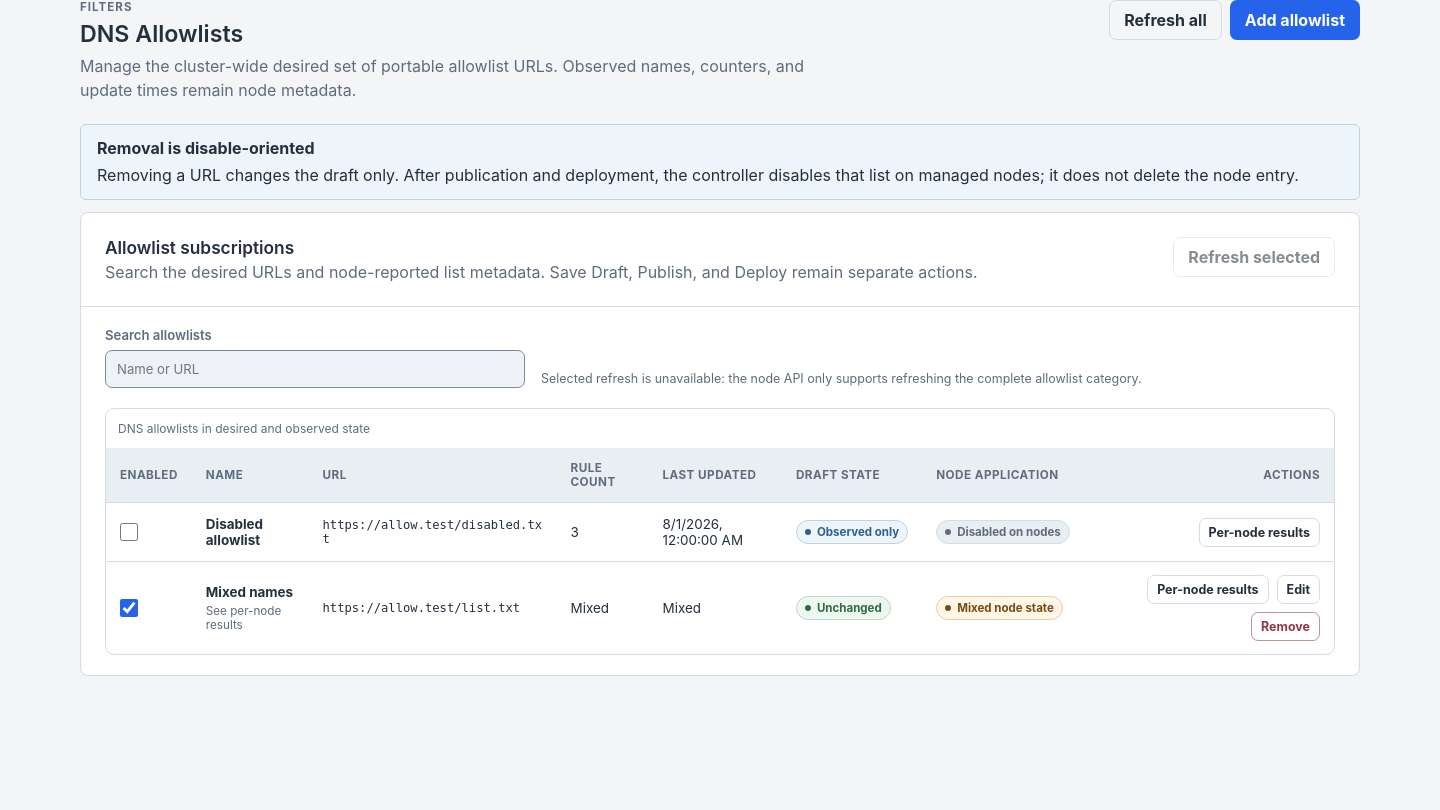
Test case: DNS allowlists page › migrates existing textarea values into rows and keeps observed metadata separate
expect the text "https://allow.test/list.txt" is shown: met, box x1=322 y1=601 x2=542 y2=615
expect the text "https://allow.test/disabled.txt" is shown: met, box x1=322 y1=518 x2=542 y2=546
Click the button "Per-node results" in the row of "Mixed names": (1208, 590) x1=1147 y1=575 x2=1269 y2=604
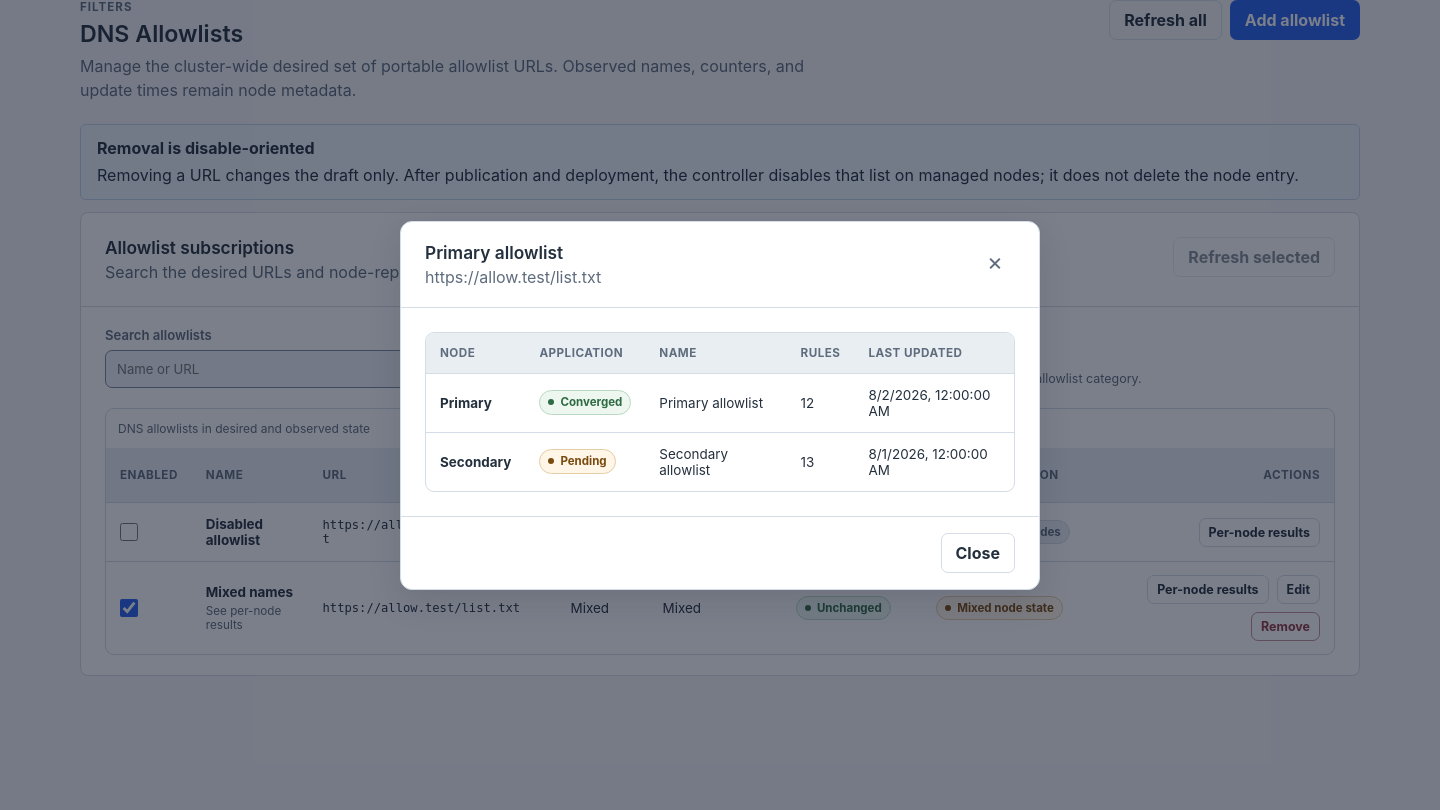
expect the dialog shows "Primary": met, box x1=440 y1=394 x2=492 y2=410
expect the dialog shows "Secondary": met, box x1=440 y1=454 x2=511 y2=470
expect the dialog shows "12": met, box x1=801 y1=394 x2=814 y2=410
Click the button "Close": (978, 552) x1=940 y1=532 x2=1015 y2=572
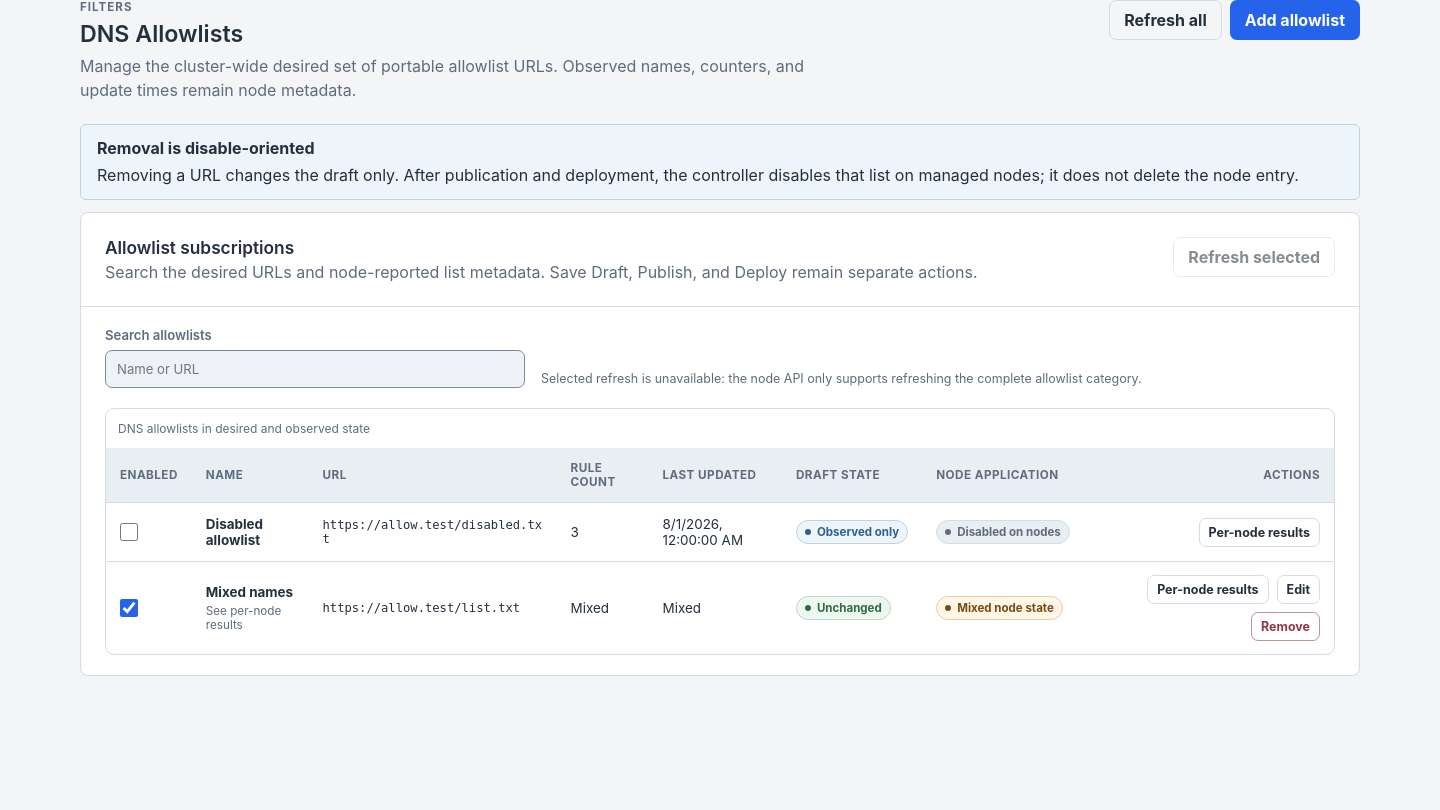
In the search field labelled "Search allowlists": (315, 369) x1=105 y1=350 x2=525 y2=388, type "missing"
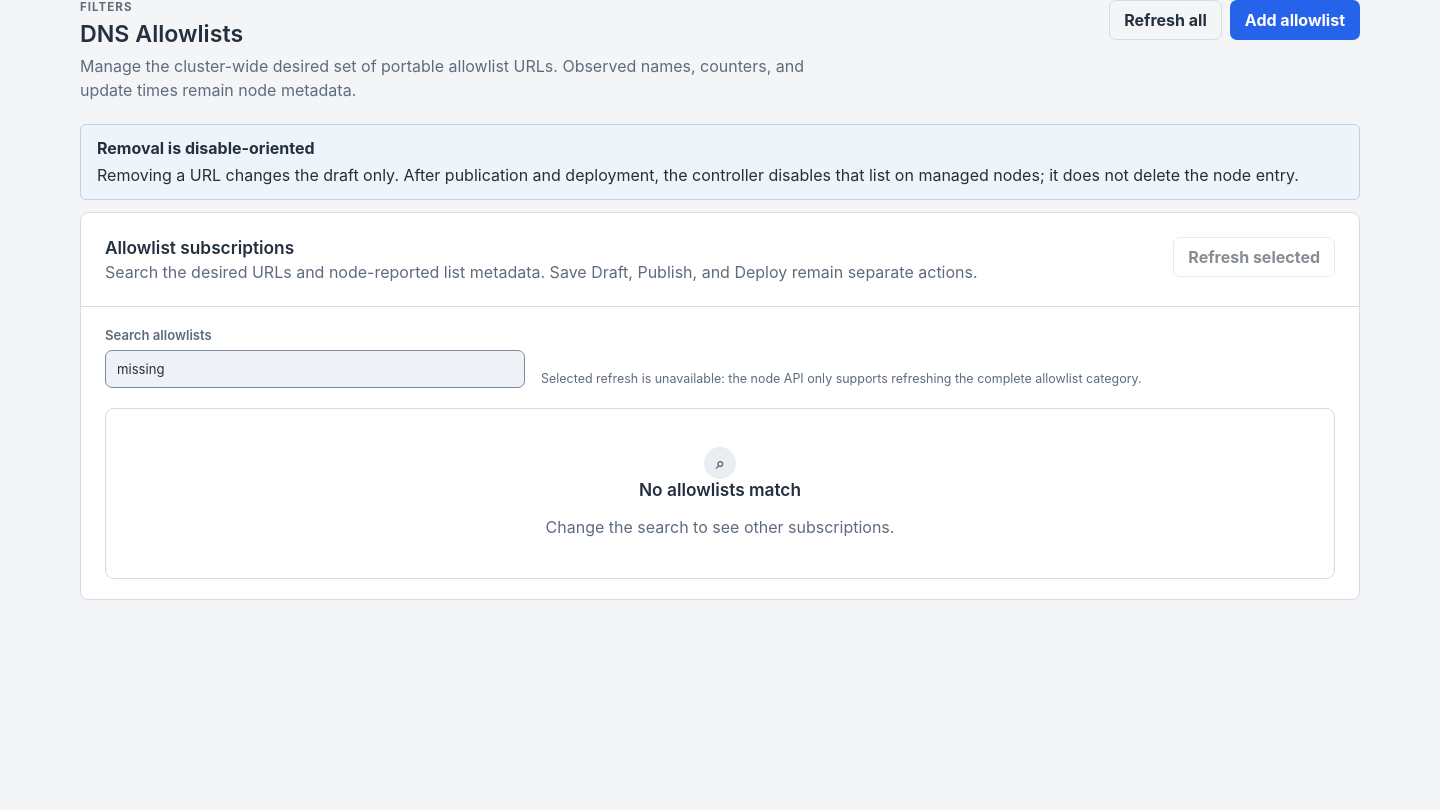
expect the heading "No allowlists match" is shown: met, box x1=639 y1=479 x2=801 y2=500
